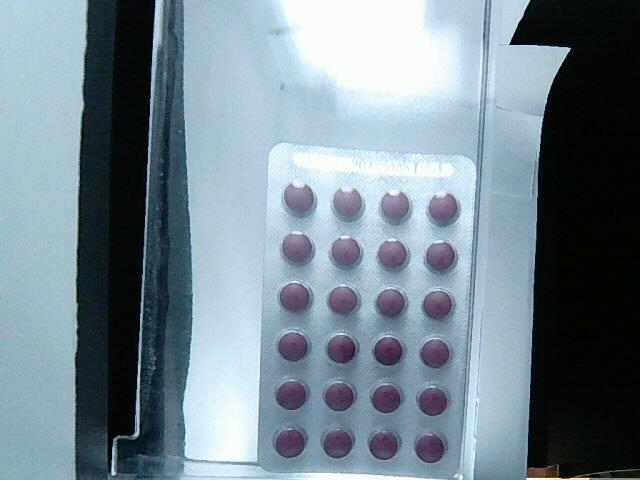Light Front: (257, 143, 478, 480)
Pill Front: (320, 426, 356, 460), (273, 427, 307, 461), (368, 380, 404, 412), (278, 281, 312, 314), (274, 377, 307, 411), (413, 431, 446, 465), (419, 337, 451, 370), (415, 385, 447, 418), (367, 429, 400, 461), (324, 381, 356, 413), (372, 335, 403, 368), (331, 186, 363, 217), (281, 232, 313, 263), (377, 237, 409, 268), (277, 331, 309, 362), (429, 192, 459, 225), (284, 182, 314, 213), (380, 191, 410, 222), (425, 240, 456, 270), (326, 333, 357, 363), (377, 284, 404, 318), (327, 285, 357, 314), (331, 236, 360, 265), (423, 290, 452, 318)
